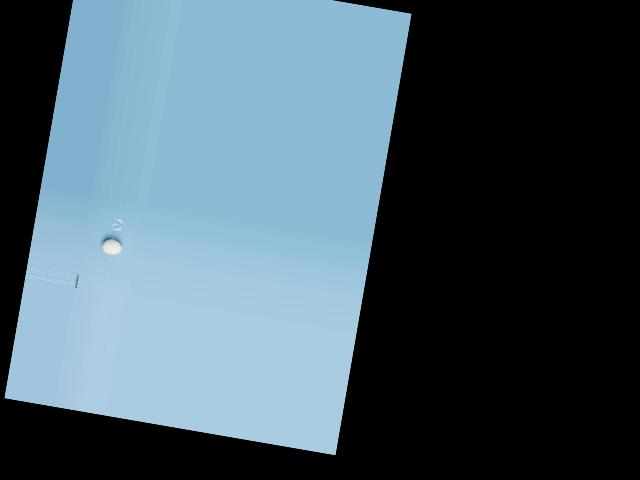egg: (100, 238, 122, 256)
